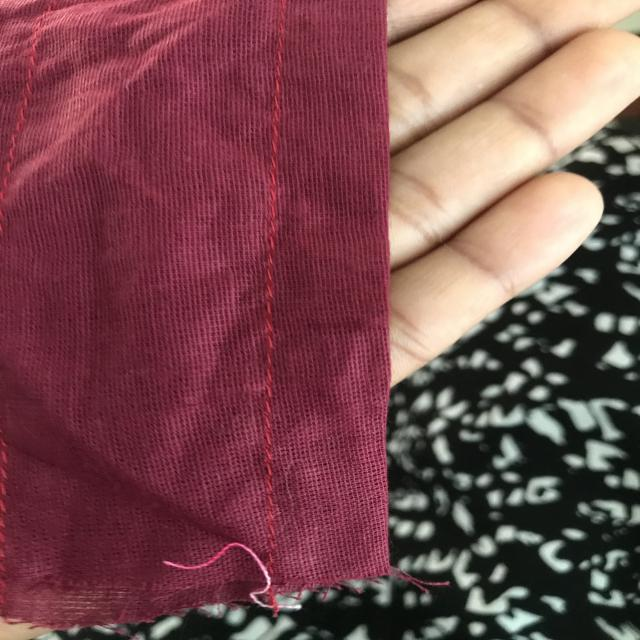good: (254, 53, 296, 144)
